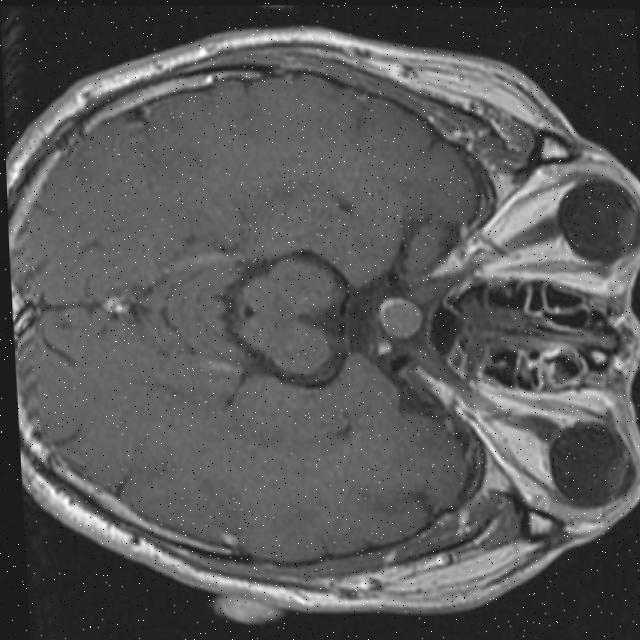Pituitary: (378, 297, 423, 339)
